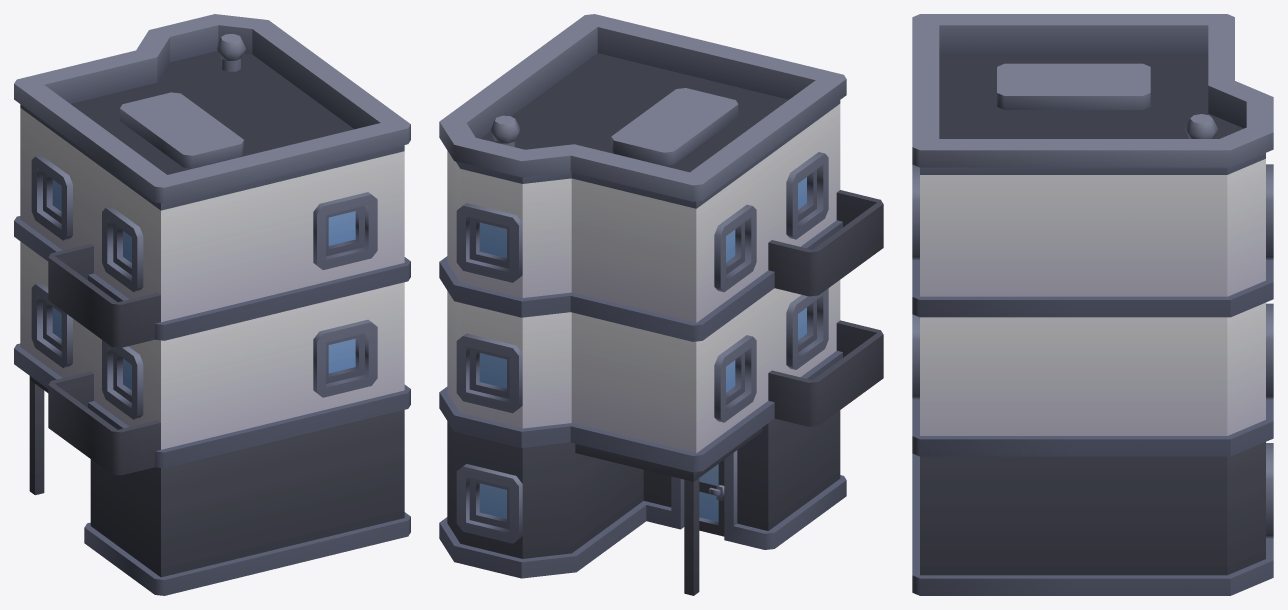
File: building-b.glb
3 views of the same model, side by side, from view 1: azimuth 30°, elevation 25°; view 2: azimuth 150°, elevation 25°; view 3: azimuth 270°, elevation 25° (orthographic). The views are drawn at different scales.
Parts seen in each view (by area): view 1: building-b; view 2: building-b; view 3: building-b.
Boxes of the visible parts, left/top/right/bottom form: building-b: left=14, top=14, right=410, bottom=595; building-b: left=439, top=14, right=883, bottom=595; building-b: left=912, top=14, right=1273, bottom=595.
Size of the model in its own units: 0.9701 by 1.29 by 0.94.
1 material, 1 textured.
